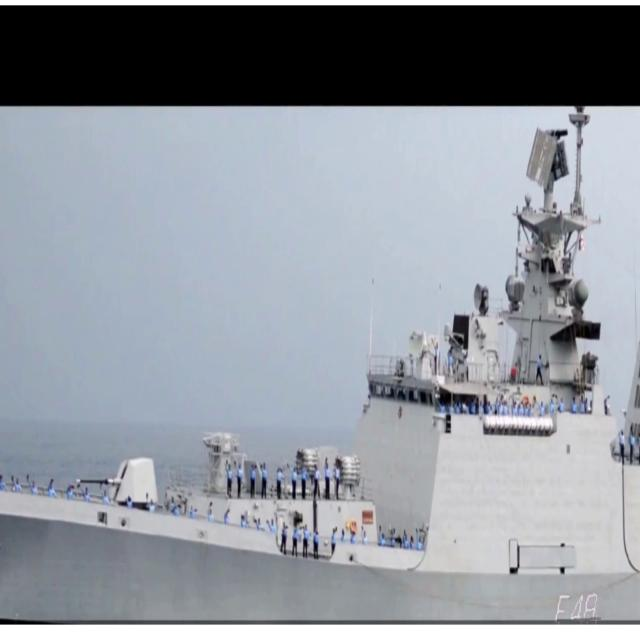OCR: (551, 586, 604, 623)
